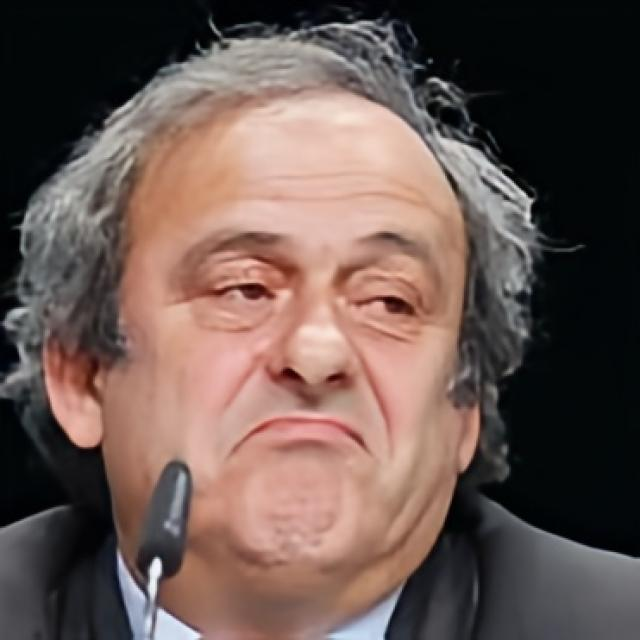disgust: (104, 91, 472, 640)
